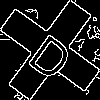D: (25, 25, 81, 83)
